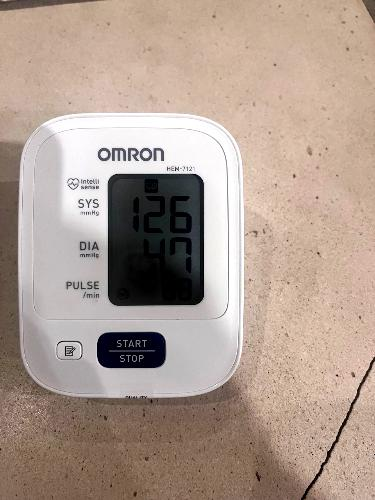bpm: (107, 172, 205, 306)
